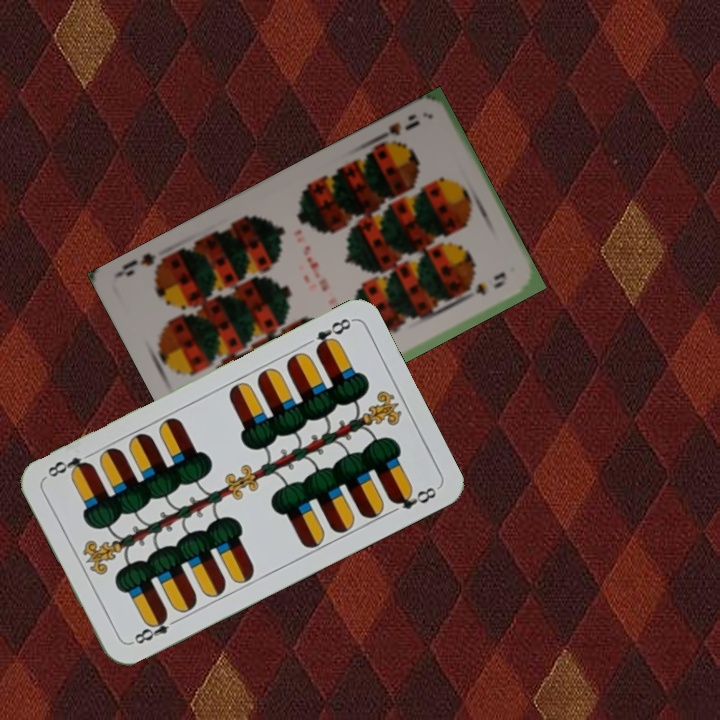E8: (126, 609, 182, 647), (311, 314, 354, 355)
S9: (371, 116, 423, 148)
